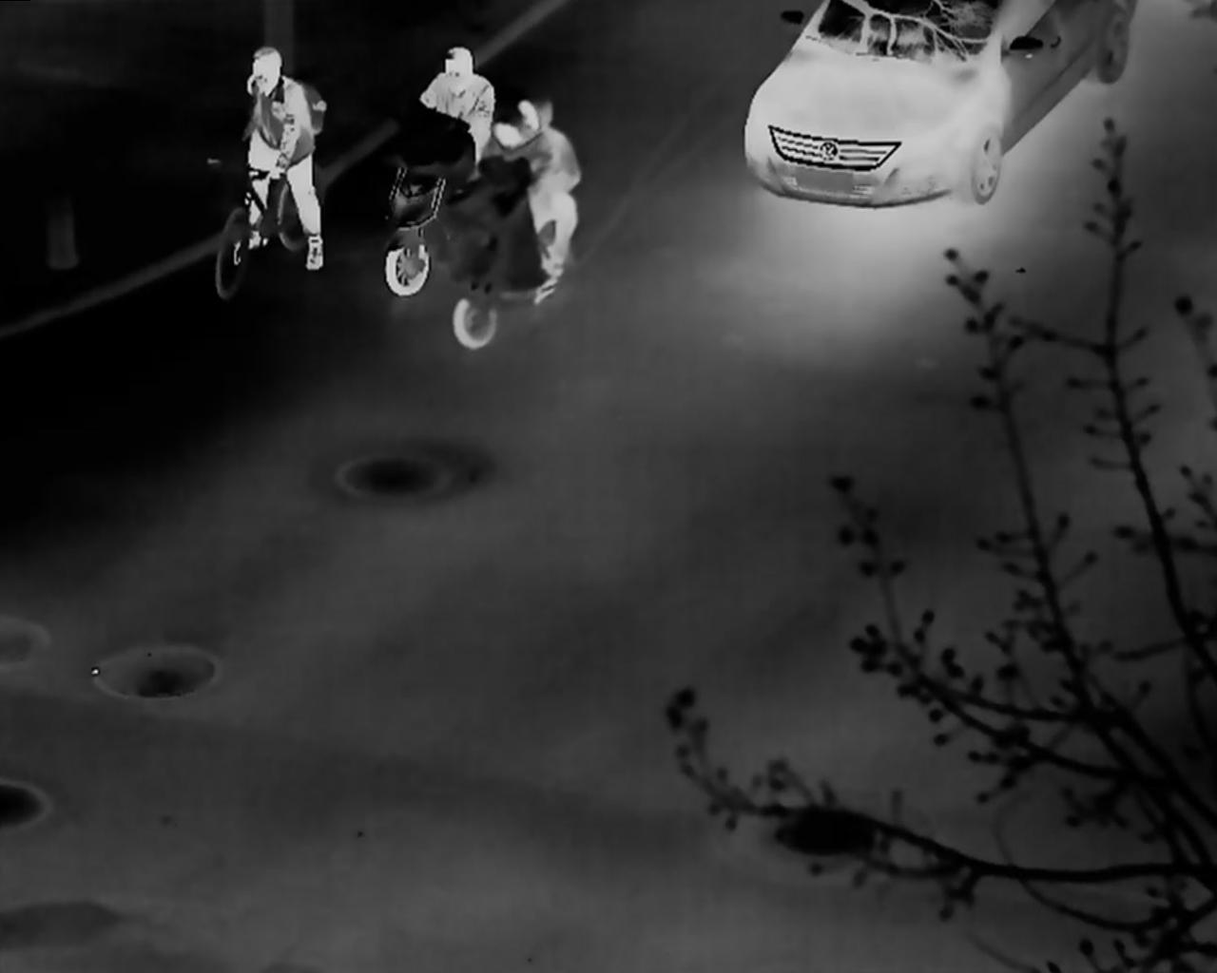person: (239, 45, 328, 271), (509, 94, 582, 279), (418, 44, 494, 175)
